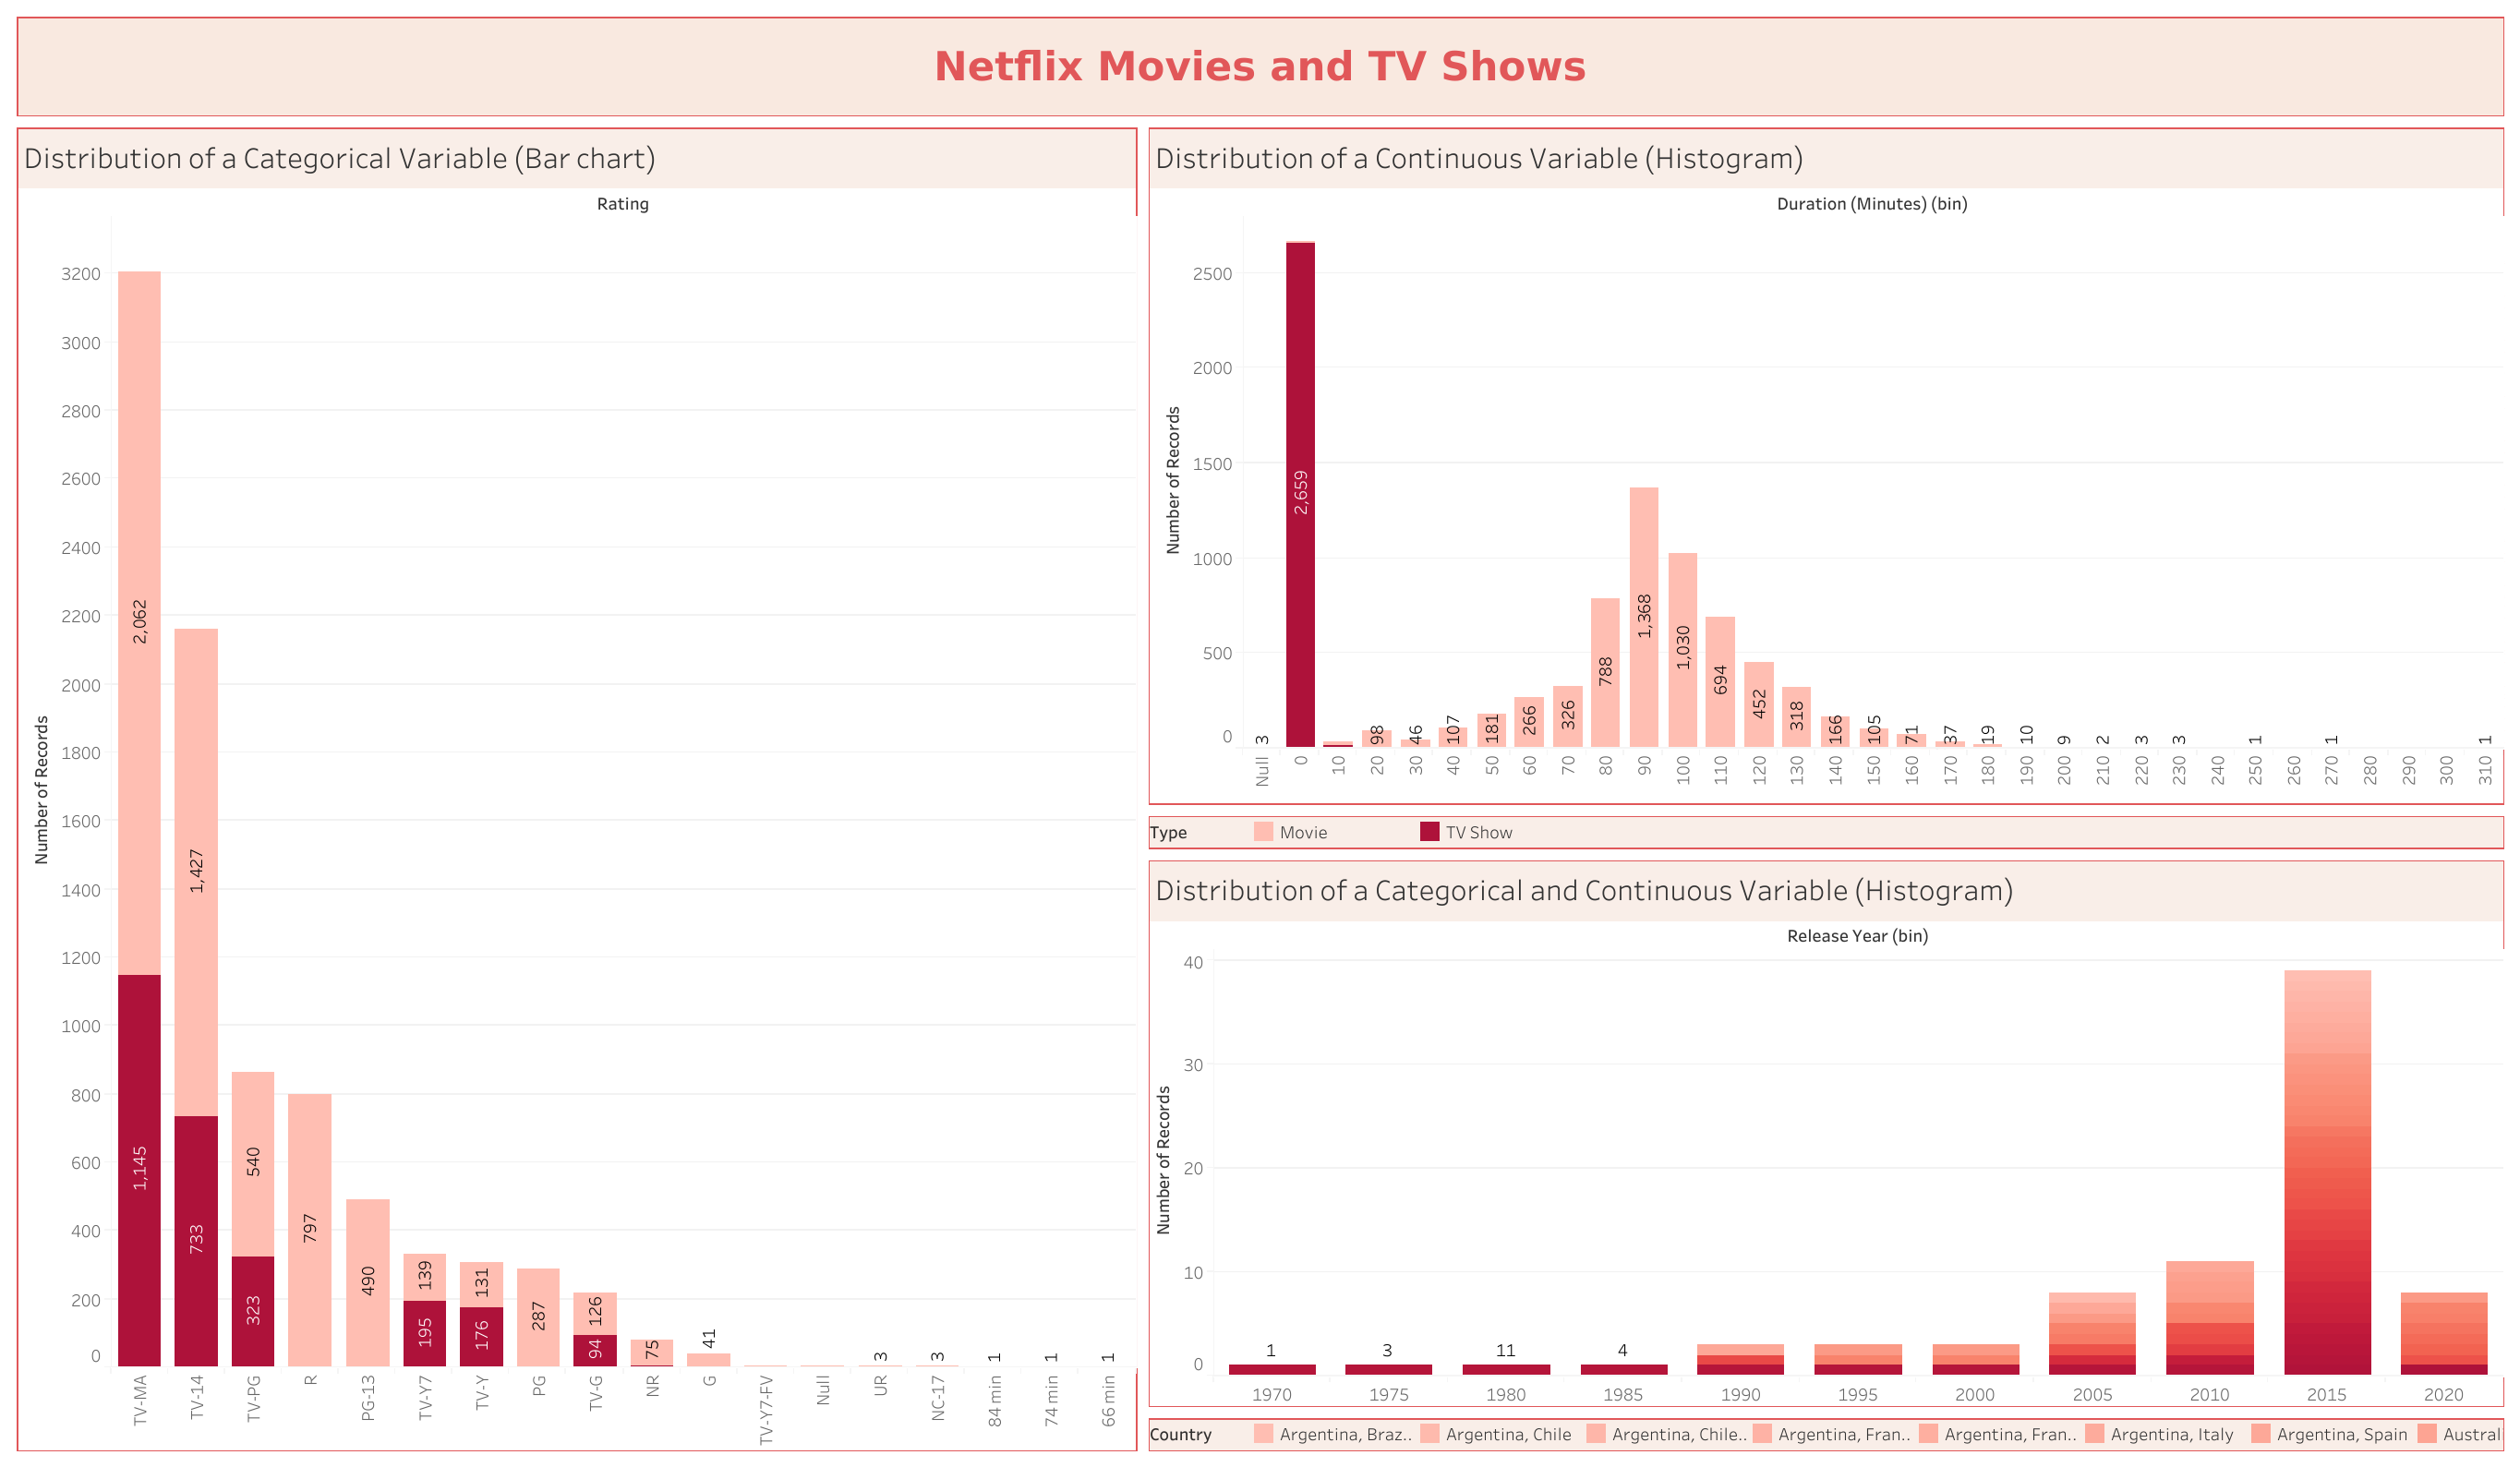

This screenshot's page, from the dashboard's own definition file:
{"tool":"tableau","page":{"name":"Dashboard 1","canvas":[1000,1000],"units":"permille","ordinal":0},"visuals":[{"type":"title","box":[4.4,7.5,991.2,75.5]},{"type":"worksheet","title":"Distribution of a Categorical Variable (Bar chart)","mark":"Automatic","rows":["Calculation_1504202327169503232"],"cols":["rating"],"box":[4.4,83,448.9,909.4]},{"type":"worksheet","title":"Distribution of a Continuous Variable (Histogram)","mark":"Bar","rows":["Calculation_1504202327169503232"],"cols":["Duration (Minutes) (bin)"],"box":[453.3,83,542.3,468.9]},{"type":"legend","title":"Distribution of a Categorical Variable (Bar chart)","param":"[federated.0gqzv081fw4uz21e9txuz14yl34c].[none:type:nk]","box":[453.3,551.9,542.3,30.2]},{"type":"worksheet","title":"Distribution of a Categorical and Continuous Variable (Histogram)","mark":"Bar","rows":["Calculation_1504202327169503232"],"cols":["Release Year (bin)"],"box":[453.3,582.1,542.3,380.2]},{"type":"legend","title":"Distribution of a Categorical and Continuous Variable (Histogram)","param":"[federated.0gqzv081fw4uz21e9txuz14yl34c].[none:country:nk]","box":[453.3,962.3,542.3,30.2]}]}

Visuals, with their boxes on the dashboard's canvas, which has no fixed pixel size, in thousandths of its width and height (x1, y1, x2, y2). These are canvas units, not pixel positions in the 2520x1467 screenshot, which may show the page scaled, cropped or inside an application window:
title: 4 8 996 83
"Distribution of a Categorical Variable (Bar chart)" worksheet: 4 83 453 992
"Distribution of a Continuous Variable (Histogram)" worksheet (Bar marks): 453 83 996 552
"Distribution of a Categorical Variable (Bar chart)" legend: 453 552 996 582
"Distribution of a Categorical and Continuous Variable (Histogram)" worksheet (Bar marks): 453 582 996 962
"Distribution of a Categorical and Continuous Variable (Histogram)" legend: 453 962 996 992
